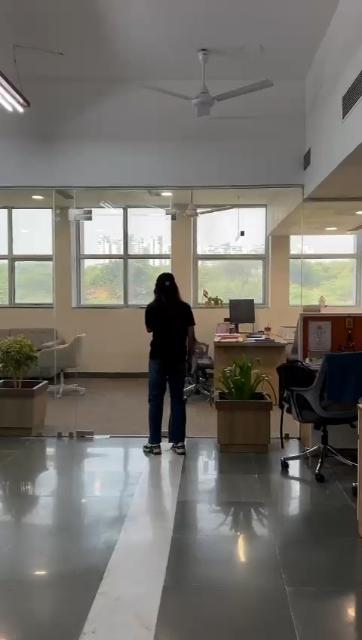floor: (1, 460, 276, 640), (276, 482, 358, 638), (83, 377, 144, 463)
moving-obj: (152, 242, 216, 452)
object: (275, 354, 362, 472), (0, 333, 80, 433), (222, 361, 284, 459), (225, 300, 262, 340)
wall: (4, 304, 146, 332), (268, 196, 290, 328), (86, 335, 144, 377), (52, 220, 79, 300)
